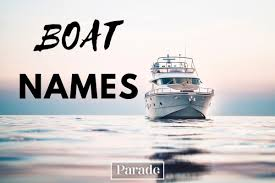boat: (144, 43, 214, 123)
